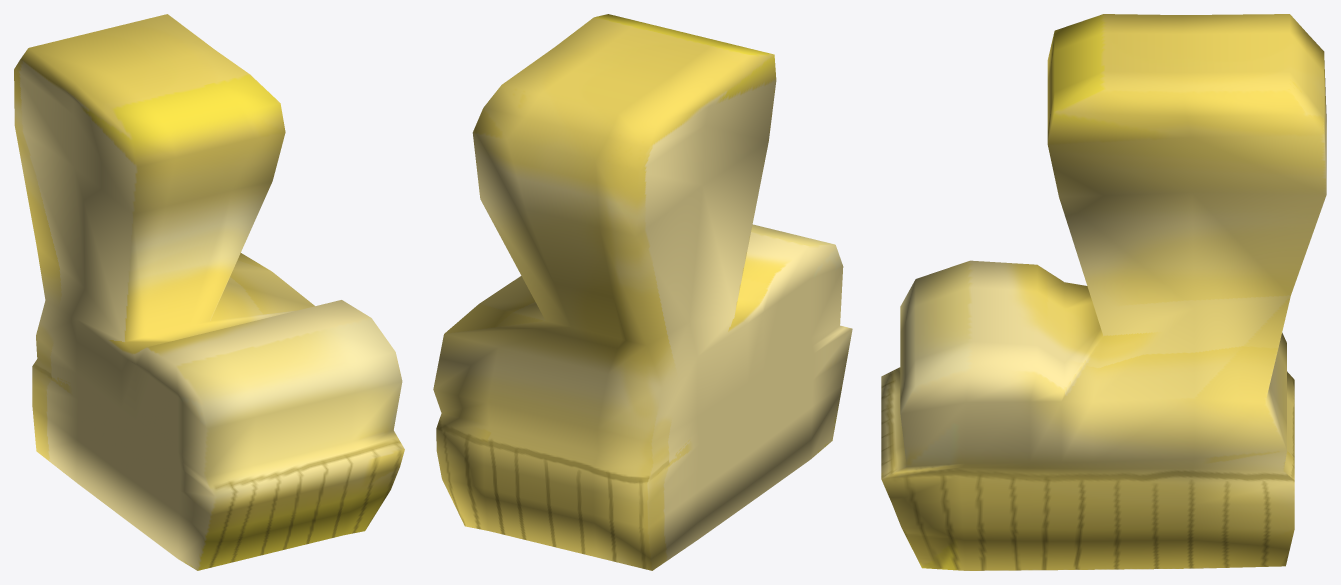
The model's file is Dhalia BOTA.fbx.
3 renders of one model, left to right at view 1: azimuth 30°, elevation 25°; view 2: azimuth 150°, elevation 25°; view 3: azimuth 270°, elevation 25°, orthographic. The views are drawn at different scales.
Visible parts, largest first — view 1: botas; view 2: botas; view 3: botas.
Boxes of the visible parts, bbox=[...] form: botas: bbox=[14, 14, 404, 570]; botas: bbox=[433, 14, 852, 570]; botas: bbox=[881, 14, 1326, 570].
Size of the model in its own units: 49.05 by 94.75 by 82.9.
